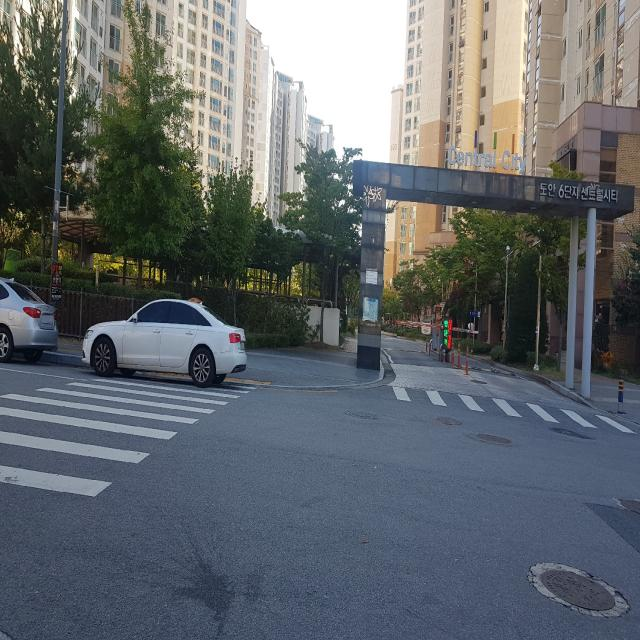횡단보도: (0, 374, 258, 500), (391, 386, 640, 434)
